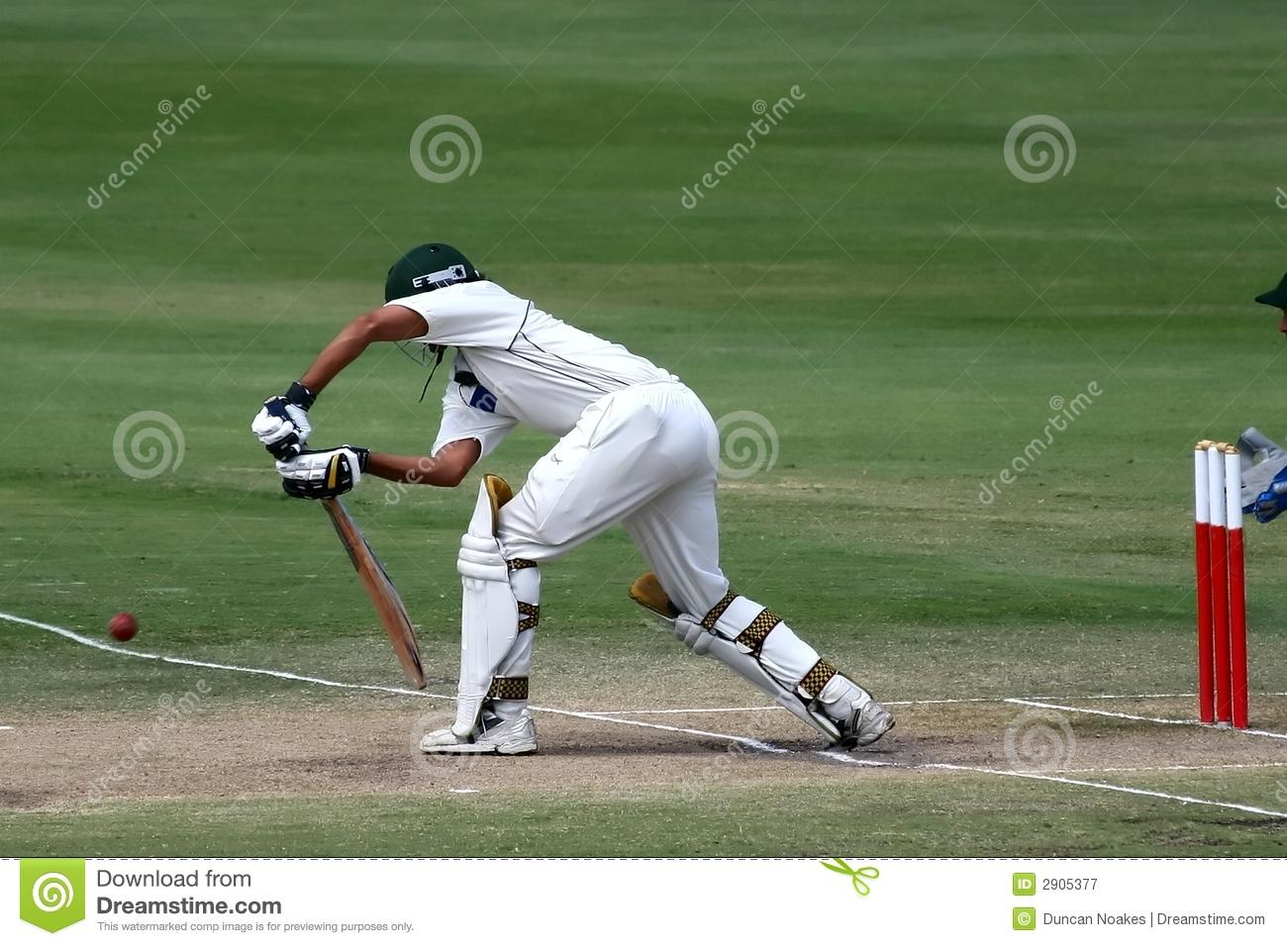batsman: (249, 232, 910, 769)
